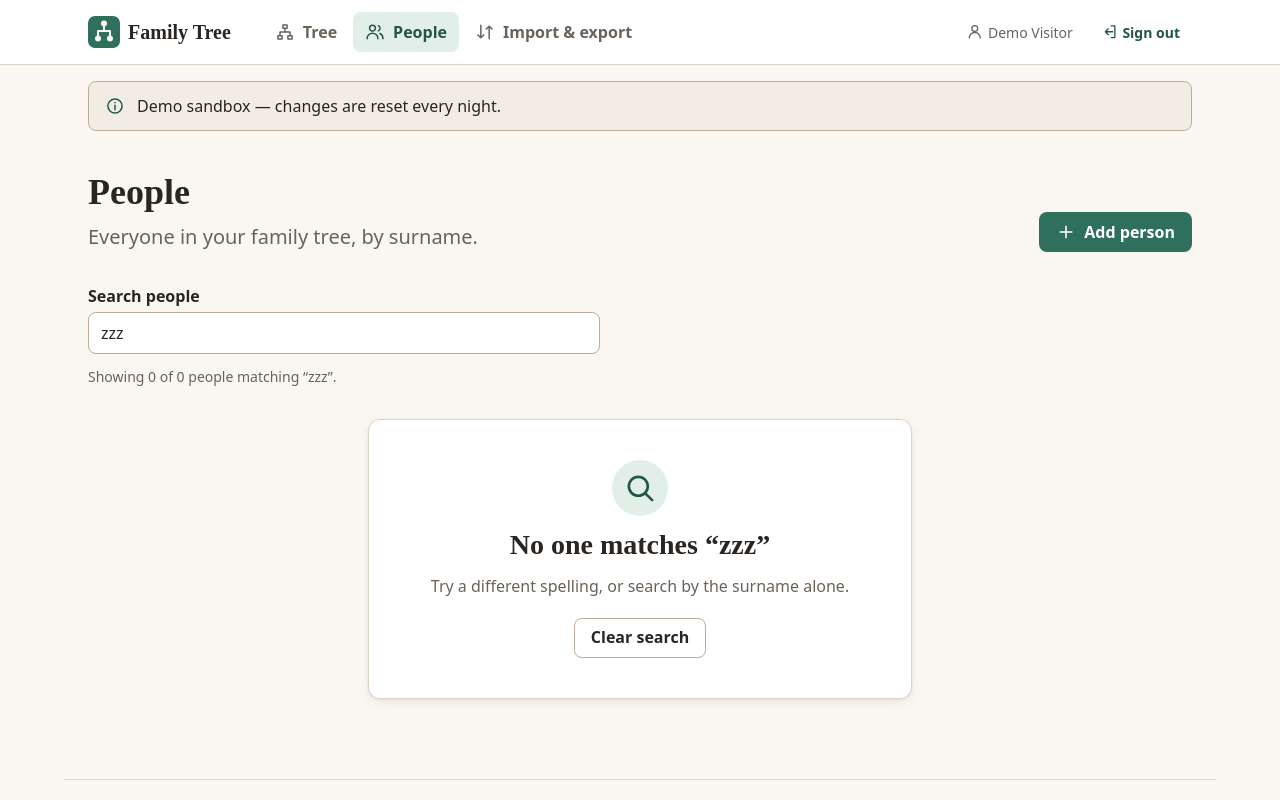
Test case: a search without matches says so and can be cleared
Check: the heading "No one matches “zzz”" is shown, box [510,528,770,562]
Step 1. Click the button "Clear search" → (640, 638), box [574,618,706,658]
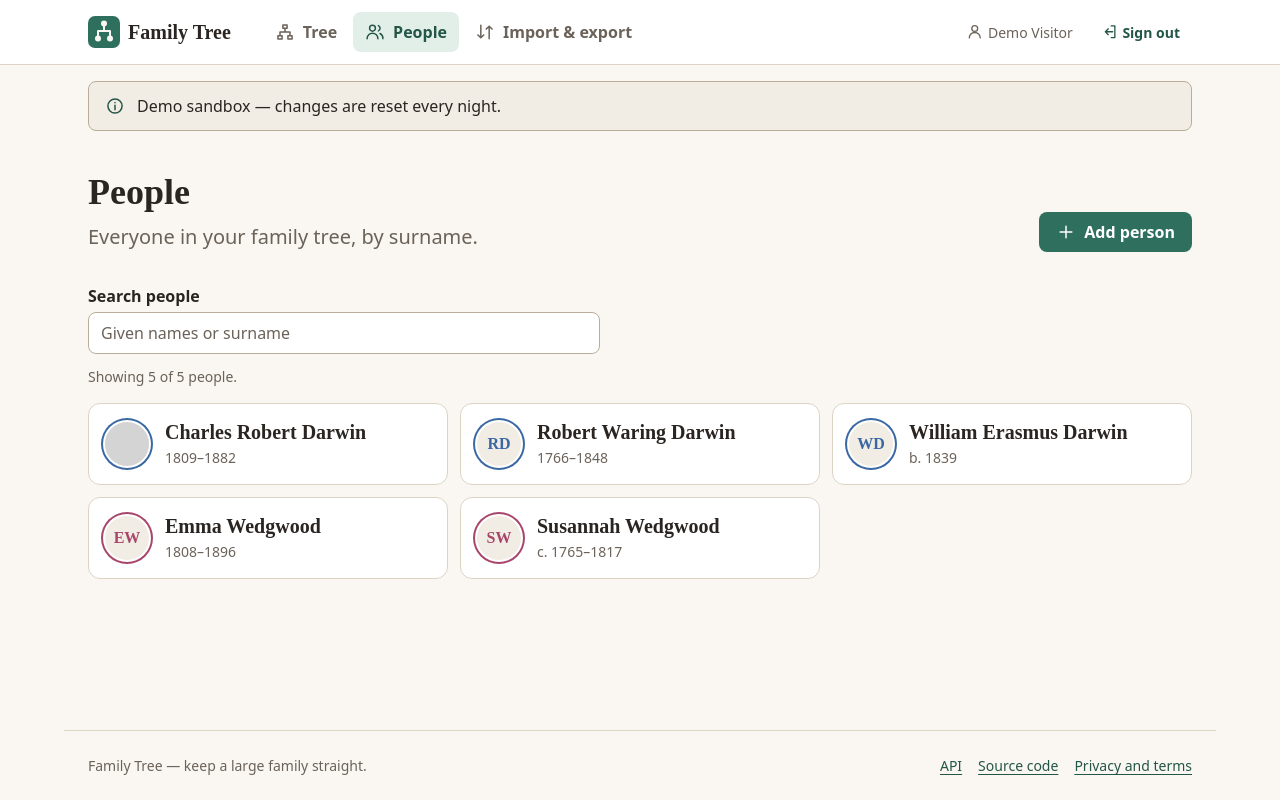
Check: the search field labelled "Search people" is empty, box [88,312,600,354]
Check: the link "EW Emma Wedgwood 1808–1896" is shown, box [88,497,448,579]
